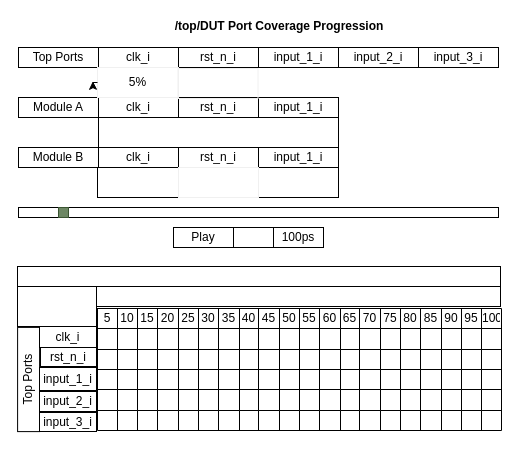
This 519x449 diagram has some shape labels left out. The shapes that lost their labels are listed below. From the top down, each one's centre as x and y in pixels, then its label:
At pixel 253 237: "Time".
At pixel 258 276: "/top/DUT Port Coverage Progression Snapshot".
At pixel 298 296: "Test %".
At pixel 56 306: "module".
